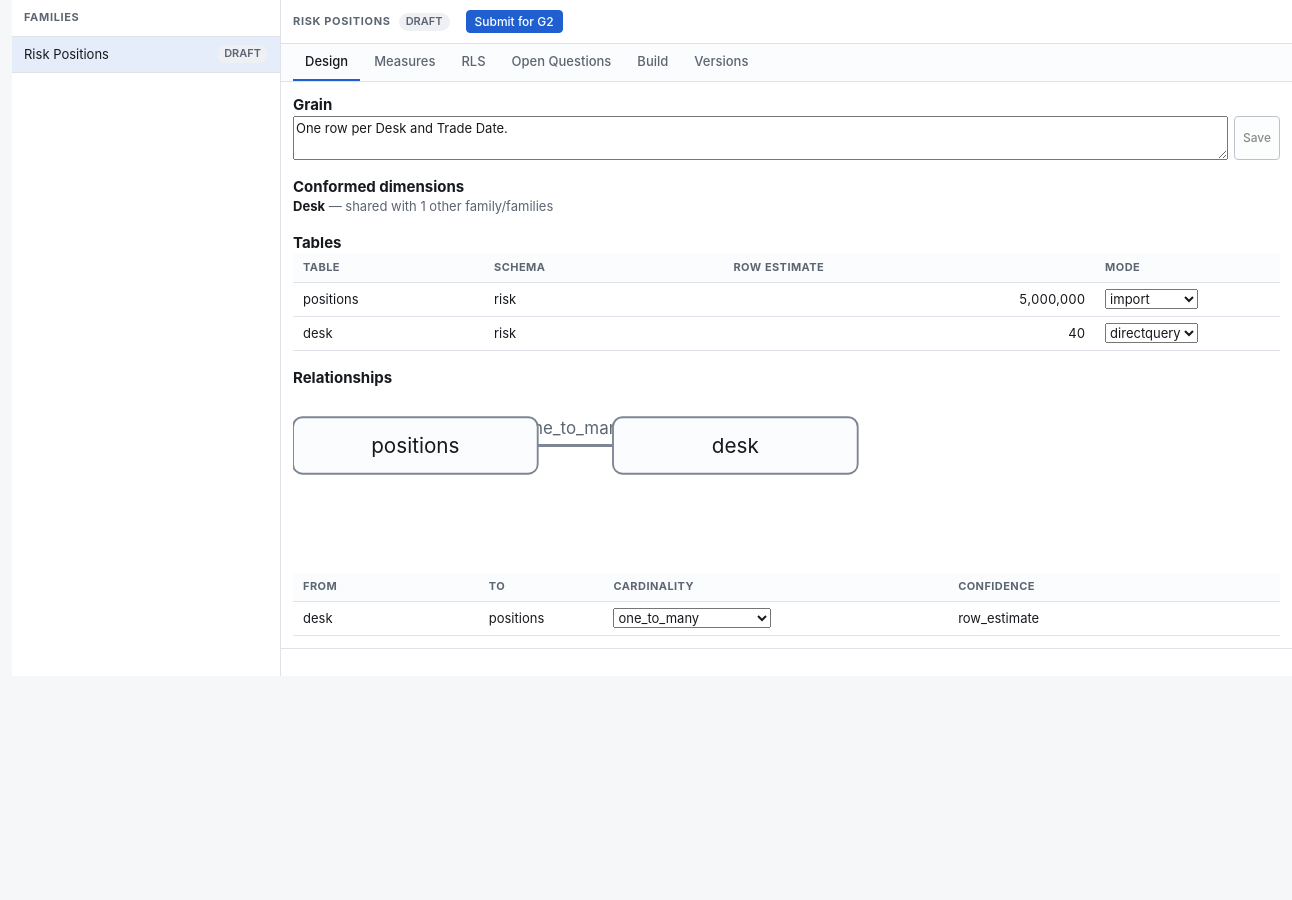
Test: the Open Questions tab › shows an open question with its category
This screenshot has width=1292, height=900.
Expected: the text box "One row per Desk and Trade Date." is shown, [293,116,1228,160]
Click the button "Open Questions": (562,63) [500,44,623,81]
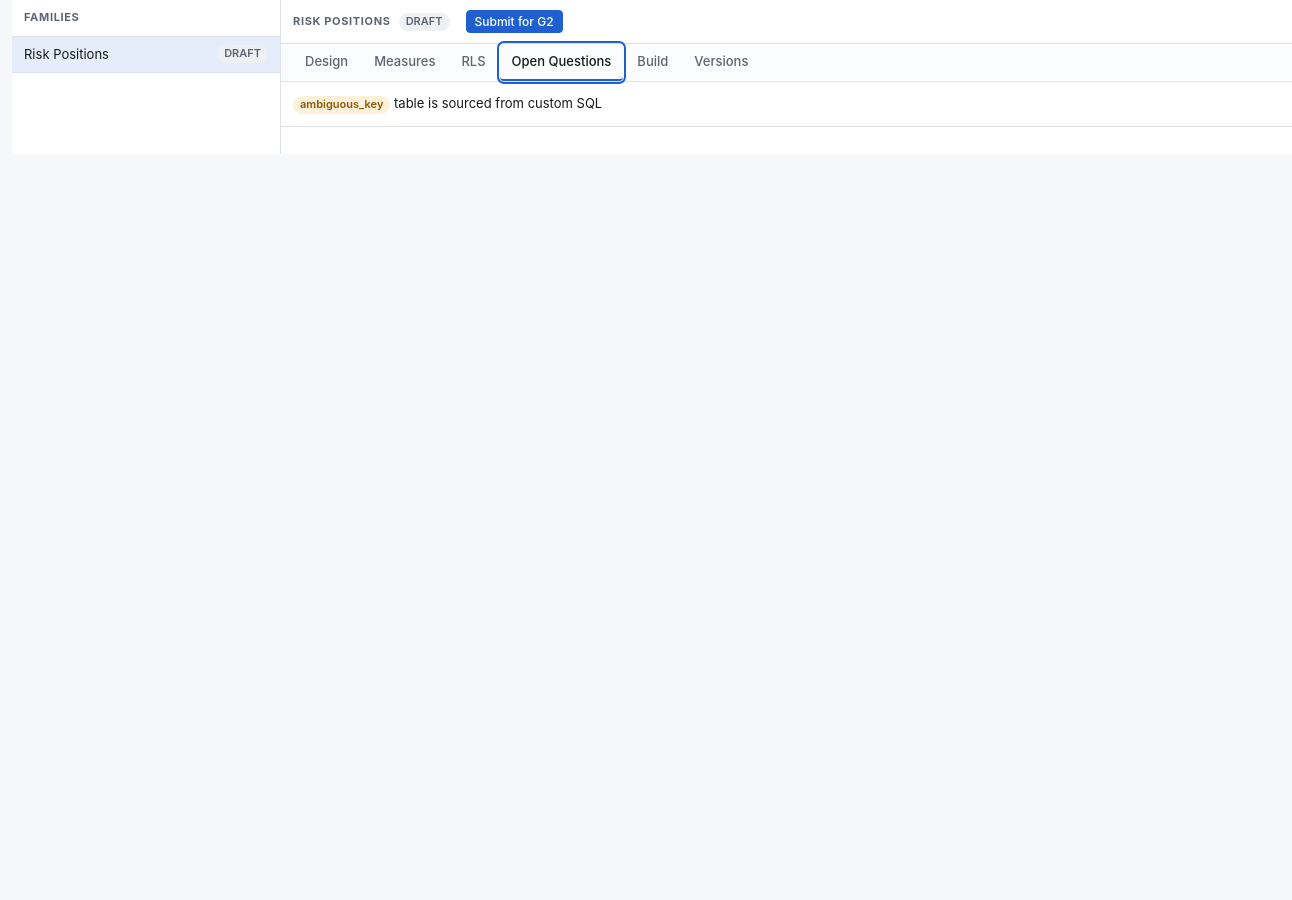
Expected: the text "ambiguous_key" is shown, [293,96,390,114]
Expected: the list item "ambiguous_key table is sourced from custom SQL" is shown, [293,95,602,114]
